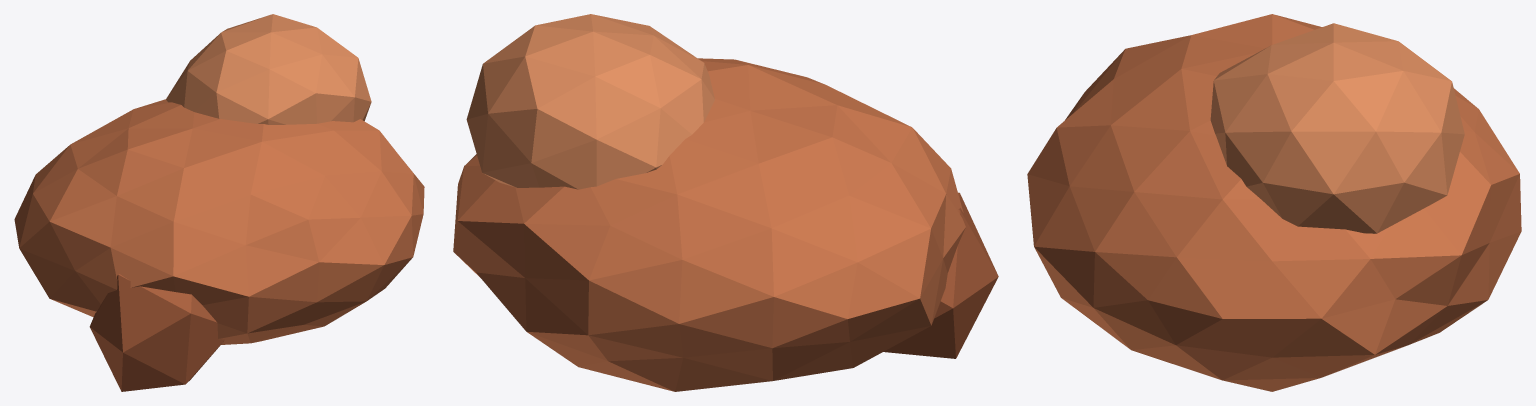
File: clay-lump.glb
3 renders of one model, left to right at view 1: azimuth 30°, elevation 25°; view 2: azimuth 150°, elevation 25°; view 3: azimuth 270°, elevation 25°, orthographic. The views are drawn at different scales.
Visible parts, largest first — view 1: clay-lump; view 2: clay-lump; view 3: clay-lump.
Boxes of the visible parts, x1,y1,x2,y2 form: clay-lump: (14,14,424,391); clay-lump: (453,14,998,391); clay-lump: (1027,14,1521,391).
Bounding box in the file's own units: 0.2777 × 0.1883 × 0.2412.
